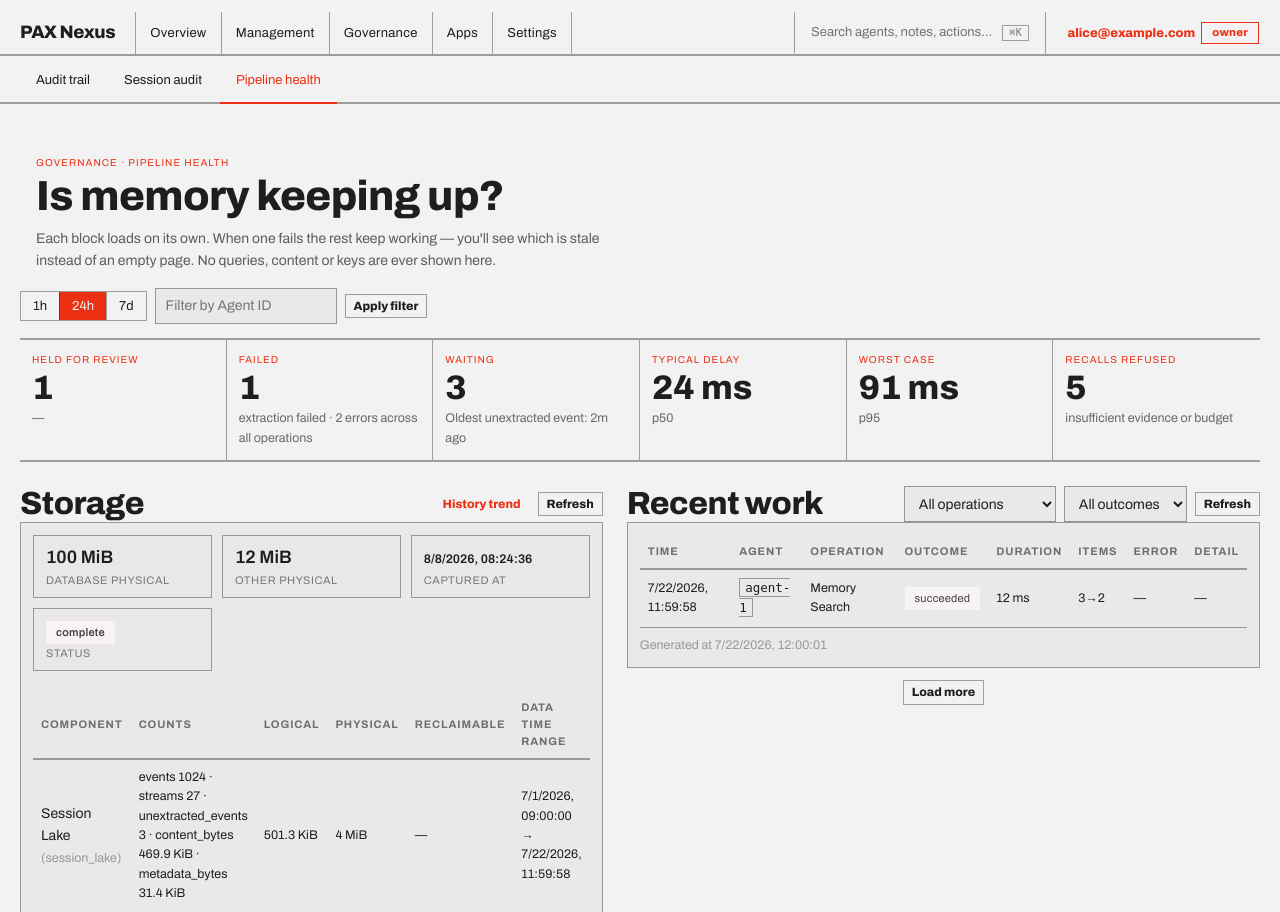
Scenario: section 12 item 9: filter changes abort and reset pagination › changing the kind filter aborts a paged request and refetches without cursor
The image size is (1280, 912).
Expected: the heading "Is memory keeping up?" is shown, [36,173,504,219]
Expected: the text "12 ms" is shown, [988,569,1070,627]
Click the button "Load more" at (943, 692), box [903,680,984,705]
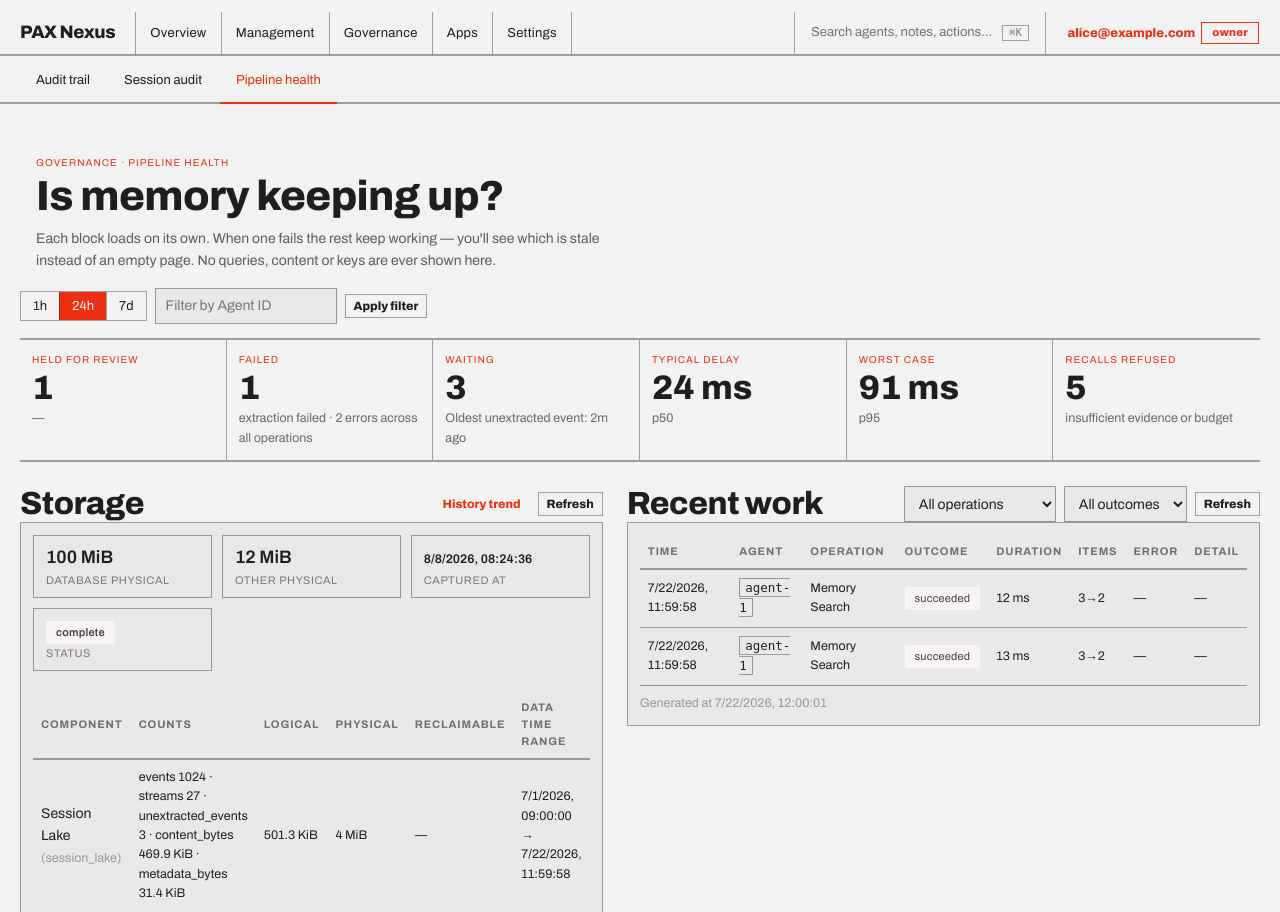
Now the text "13 ms" is shown, box [988,627,1070,685]
// Changing the filter drops the cursor and every appended page.
Select "Memory Search" in the dropdown named "Filter by operation" at (980, 504), box [904,486,1056,522]
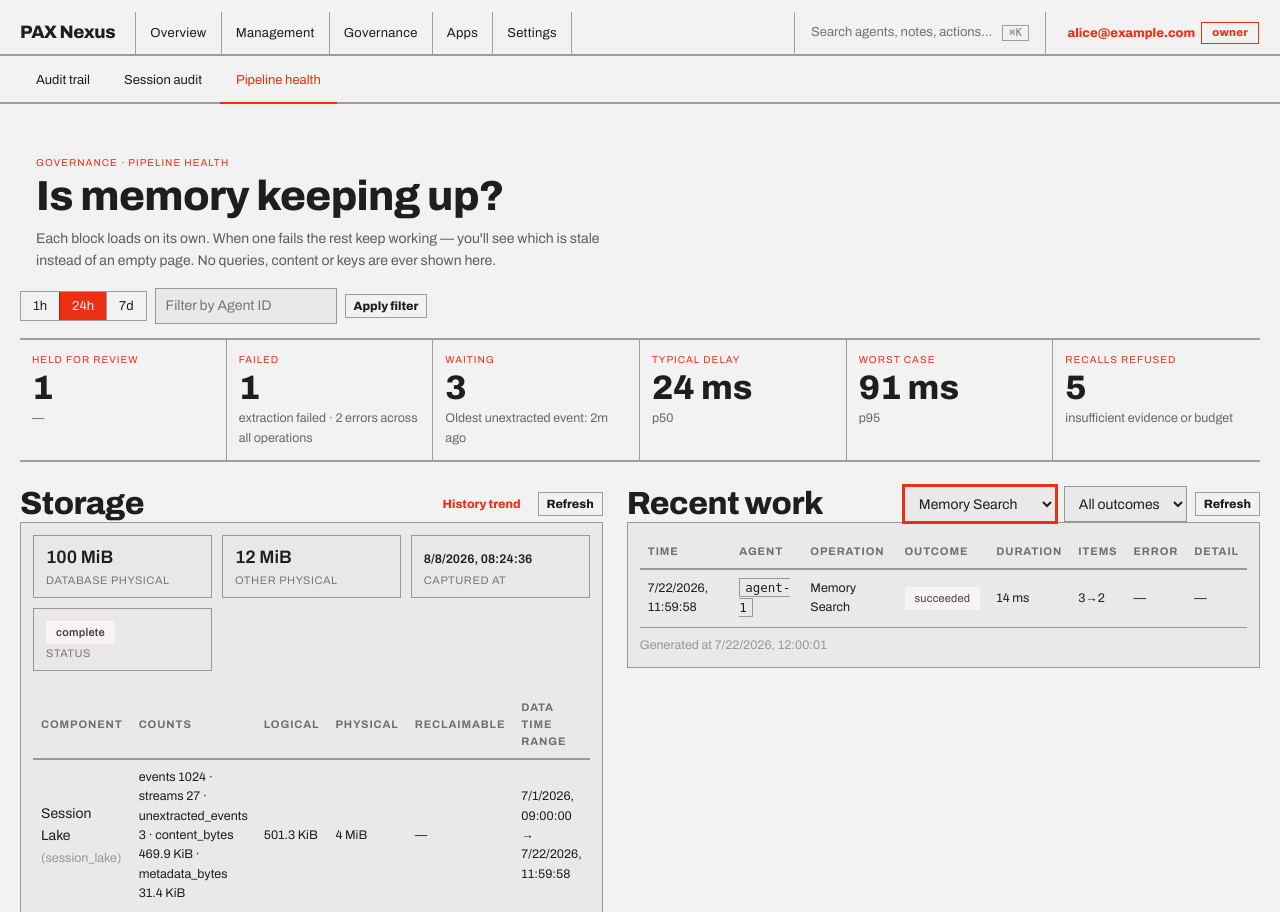
Now the text "14 ms" is shown, box [988,569,1070,627]
Now the text "12 ms" is gone
Now the text "13 ms" is gone
